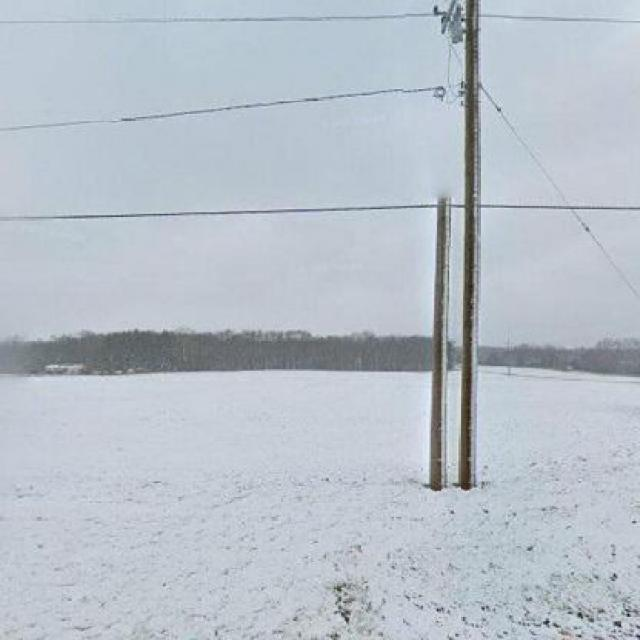pole: (444, 0, 501, 498)
